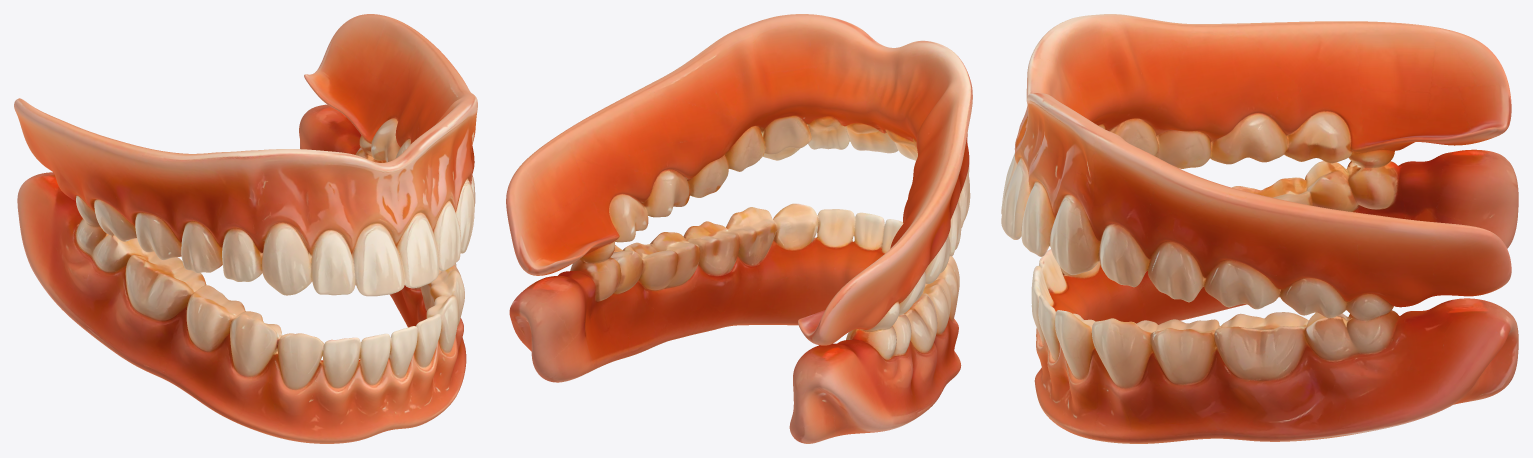
File: Denture_Duo_texture.glb
3 renders of one model, left to right at view 1: azimuth 30°, elevation 25°; view 2: azimuth 150°, elevation 25°; view 3: azimuth 270°, elevation 25°, orthographic. The views are drawn at different scales.
Bounding box in the file's own units: 1.76 × 1.34 × 1.9.
1 material, 1 textured.
